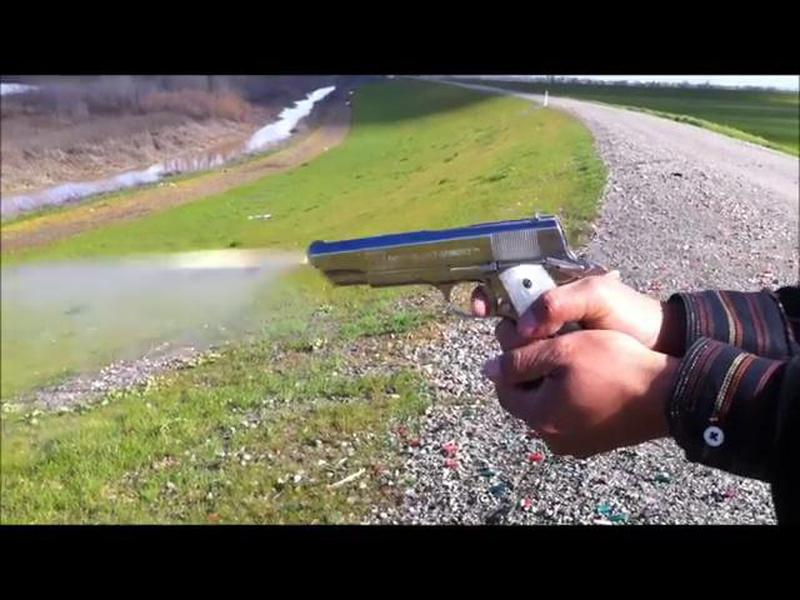Pistola: (266, 193, 620, 352)
